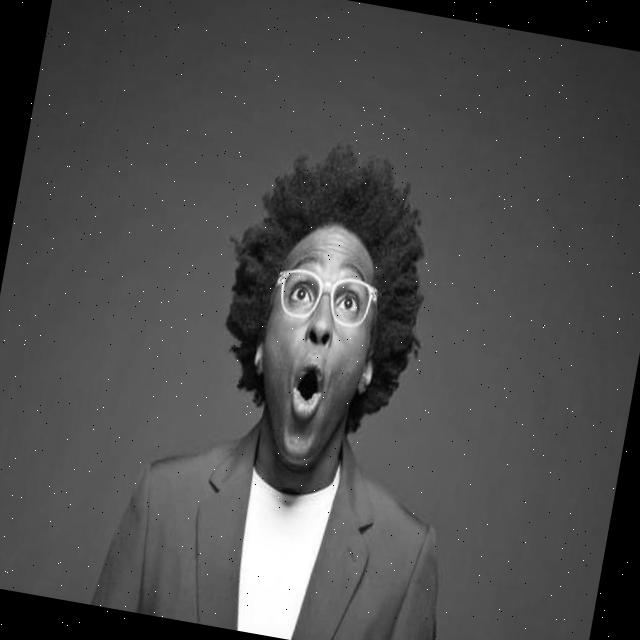Surprised: (241, 216, 389, 480)
